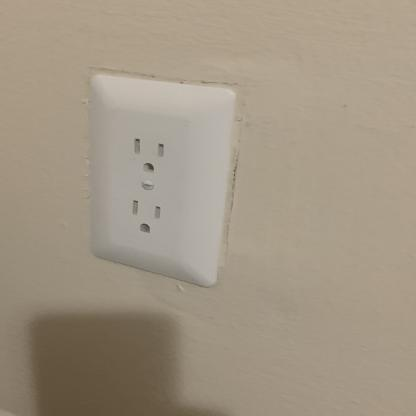OUTLET: (88, 74, 235, 292)
